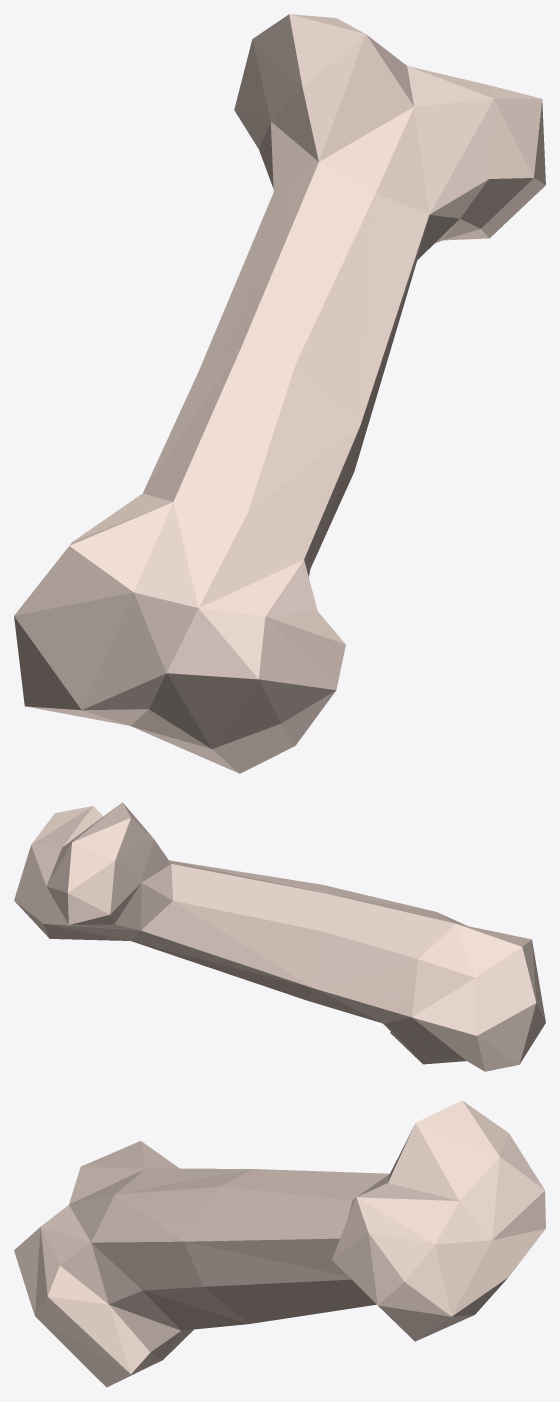
The model's file is deadSkelly_bone (3).fbx.
The picture shows the model from 3 angles, top to bottom: view 1: azimuth 30°, elevation 25°; view 2: azimuth 150°, elevation 25°; view 3: azimuth 270°, elevation 25°; orthographic projection. The views are drawn at different scales.
Visible parts, largest first — view 1: deadSkelly_bone (3); view 2: deadSkelly_bone (3); view 3: deadSkelly_bone (3).
Part boxes in pixels (x1,y1,x2,y2): deadSkelly_bone (3): (14, 14, 545, 773); deadSkelly_bone (3): (14, 802, 545, 1071); deadSkelly_bone (3): (14, 1100, 545, 1387).
Bounding box in the file's own units: 0.3551 × 0.2546 × 0.3221.
